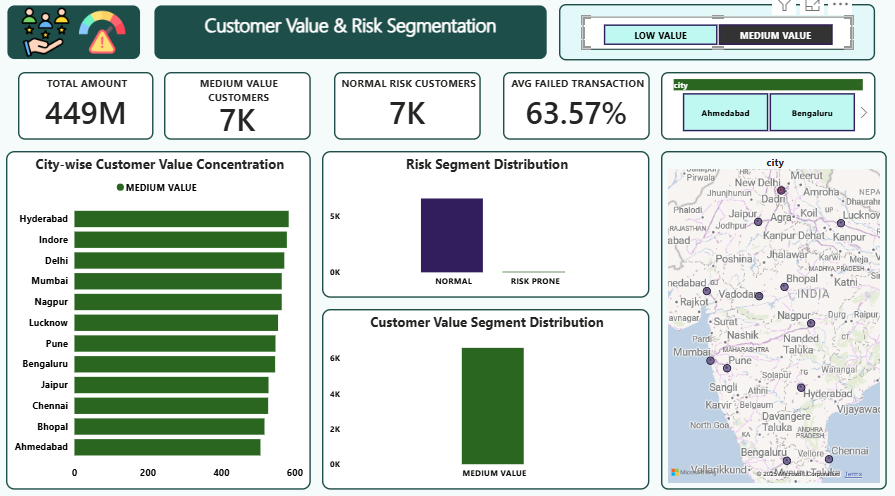

This screenshot's page, from the dashboard's own definition file:
{"tool":"powerbi","page":{"name":"Page 2","canvas":[1280,720],"ordinal":1},"visuals":[{"type":"textbox","box":[16,16,192,80],"z":0},{"type":"image","box":[112,16,80,80],"z":1000},{"type":"image","box":[16,16,112,80],"z":2000},{"type":"textbox","box":[224,16,560,80],"z":3000},{"type":"card","title":"MEDIUM VALUE CUSTOMERS","fields":{"Values":["customer_value_risk_segmentation.Medium Value Customers"]},"box":[240,112,208,96],"z":4000},{"type":"card","title":"NORMAL RISK CUSTOMERS","fields":{"Values":["customer_value_risk_segmentation.Normal Risk Customers"]},"box":[480,112,208,96],"z":5000},{"type":"card","title":"TOTAL AMOUNT","fields":{"Values":["customer_value_risk_segmentation.Total Transaction Amount (Risk View)"]},"box":[32,112,192,96],"z":6000},{"type":"card","title":"AVG FAILED TRANSACTION","fields":{"Values":["customer_value_risk_segmentation.Avg Failed Txn per Customer"]},"box":[720,112,208,96],"z":7000},{"type":"textbox","box":[800,16,448,80],"z":8000},{"type":"clusteredColumnChart","title":"Customer Value Segment Distribution","fields":{"Category":["customer_value_risk_segmentation.customer_value_segment"],"Y":["CountNonNull(customer_value_risk_segmentation.customer_id)"]},"box":[464,448,464,256],"z":9000},{"type":"clusteredColumnChart","title":"Risk Segment Distribution","fields":{"Category":["customer_value_risk_segmentation.risk_segment"],"Y":["CountNonNull(customer_value_risk_segmentation.customer_id)"]},"box":[464,224,464,208],"z":10000},{"type":"clusteredBarChart","title":"City-wise Customer Value Concentration","fields":{"Category":["customer_value_risk_segmentation.city"],"Y":["CountNonNull(customer_value_risk_segmentation.customer_id)"],"Series":["customer_value_risk_segmentation.customer_value_segment"]},"box":[16,224,432,480],"z":11000},{"type":"slicer","fields":{"Values":["customer_value_risk_segmentation.customer_value_segment"]},"box":[832,32,384,48],"z":12000},{"type":"map","fields":{"Category":["customer_value_risk_segmentation.city"]},"box":[944,224,320,480],"z":13000},{"type":"slicer","fields":{"Values":["customer_value_risk_segmentation.city"]},"box":[944,112,304,96],"z":14000}]}

Visuals, with their boxes in screenshot pixels (x1, y1, x2, y2), scaled from the page's 1280x720 canvas onto the 895x496 screenshot:
textbox: bbox(11, 11, 145, 66)
image: bbox(78, 11, 134, 66)
image: bbox(11, 11, 90, 66)
textbox: bbox(157, 11, 548, 66)
"MEDIUM VALUE CUSTOMERS" card: bbox(168, 77, 313, 143)
"NORMAL RISK CUSTOMERS" card: bbox(336, 77, 481, 143)
"TOTAL AMOUNT" card: bbox(22, 77, 157, 143)
"AVG FAILED TRANSACTION" card: bbox(503, 77, 649, 143)
textbox: bbox(559, 11, 873, 66)
"Customer Value Segment Distribution" clusteredColumnChart: bbox(324, 309, 649, 485)
"Risk Segment Distribution" clusteredColumnChart: bbox(324, 154, 649, 298)
"City-wise Customer Value Concentration" clusteredBarChart: bbox(11, 154, 313, 485)
slicer - customer_value_risk_segmentation.customer_value_segment: bbox(582, 22, 850, 55)
map - customer_value_risk_segmentation.city: bbox(660, 154, 884, 485)
slicer - customer_value_risk_segmentation.city: bbox(660, 77, 873, 143)
